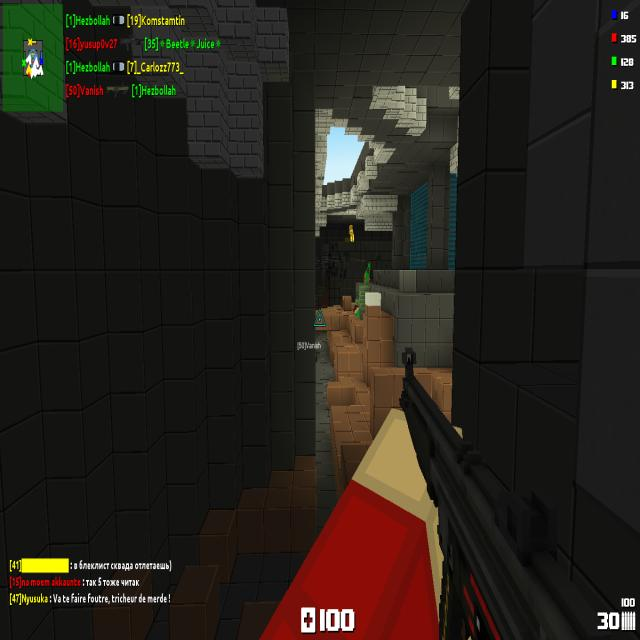enemy: (348, 224, 354, 242)
